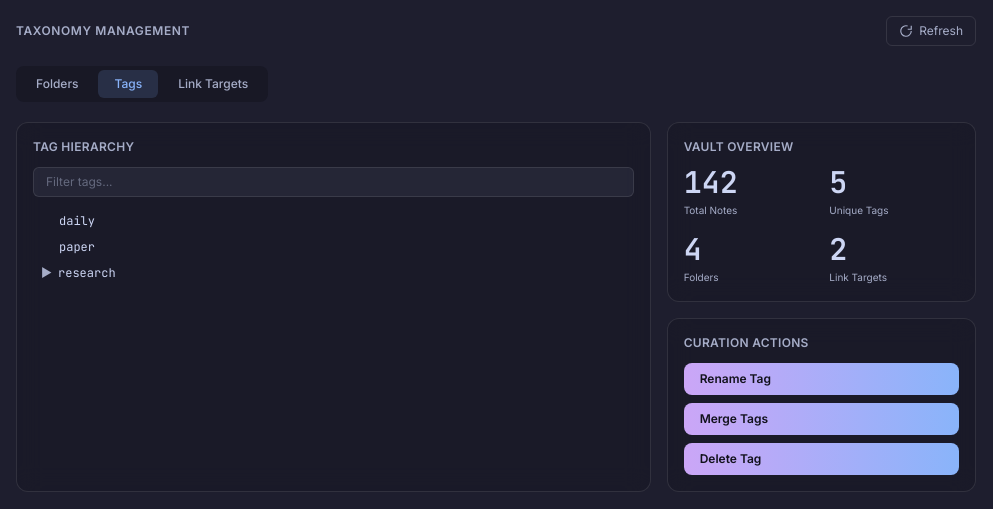
Test: TaxonomyPage › switches to folders tab
Expected: the text "research" is shown, [58, 265, 116, 281]
What coordinates should you click on to do the following:
click the button "Folders"
I would click on:
 (57, 84)
Its box is [20, 70, 94, 98].
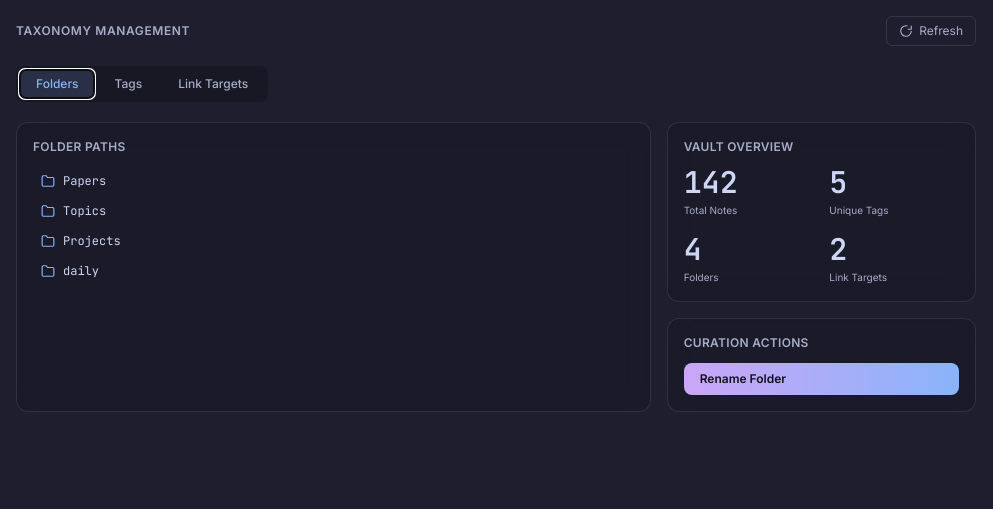
Expected: the text "Papers" is shown, [63, 173, 106, 189]
Expected: the text "Topics" is shown, [63, 203, 106, 219]
